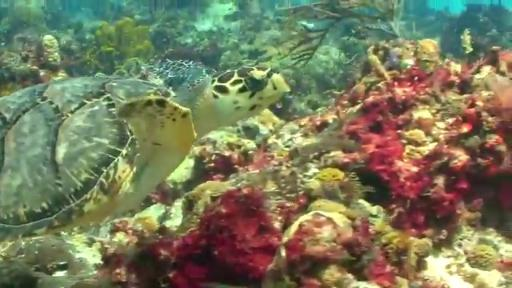Fish: (0, 68, 289, 240)
